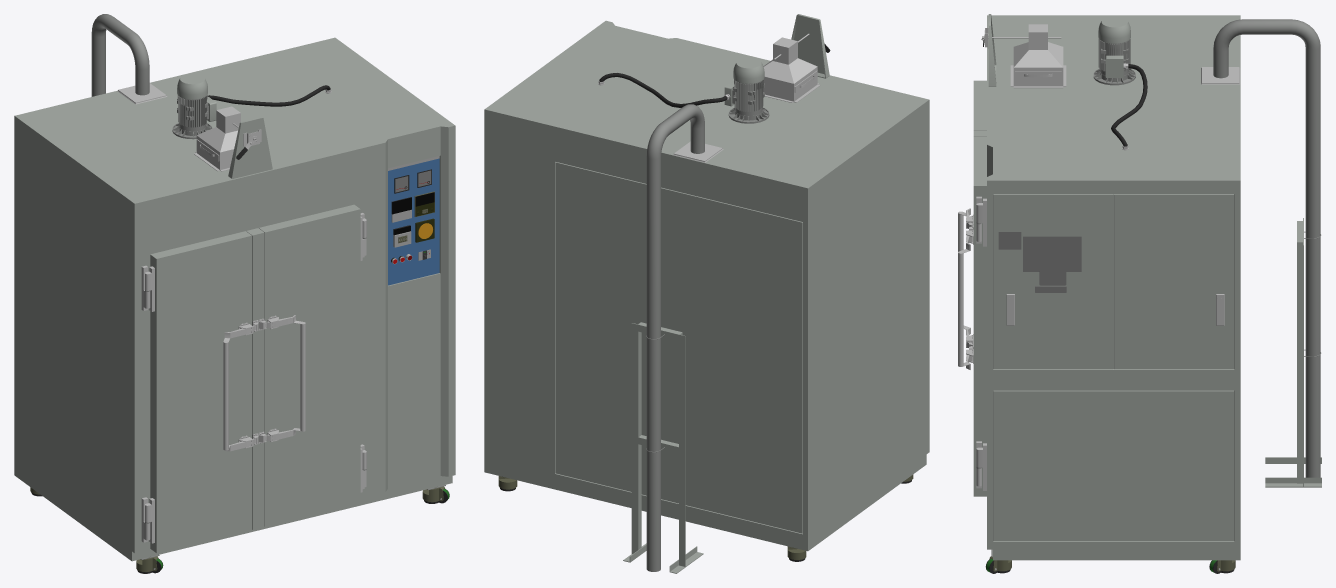
Rendered from ForcedConvectionOven_01.fbx.
The picture shows the model from 3 angles, left to right: view 1: azimuth 30°, elevation 25°; view 2: azimuth 150°, elevation 25°; view 3: azimuth 270°, elevation 25°; orthographic projection. The views are drawn at different scales.
Visible parts, largest first — view 1: FCO_01, FCO_Door_02, FCO_Door_01, FCO_DoorHandle_01, FCO_DoorHandle_02; view 2: FCO_01; view 3: FCO_01, FCO_Door_01, FCO_DoorHandle_01, FCO_Door_02.
Boxes of the visible parts, x1=… form: FCO_01: x1=14, y1=14, x2=455, y2=573; FCO_Door_02: x1=145, y1=231, x2=253, y2=553; FCO_Door_01: x1=259, y1=204, x2=366, y2=526; FCO_DoorHandle_01: x1=269, y1=315, x2=305, y2=440; FCO_DoorHandle_02: x1=223, y1=327, x2=251, y2=451; FCO_01: x1=484, y1=14, x2=929, y2=573; FCO_01: x1=969, y1=14, x2=1321, y2=573; FCO_Door_01: x1=966, y1=136, x2=986, y2=496; FCO_DoorHandle_01: x1=958, y1=235, x2=972, y2=369; FCO_Door_02: x1=966, y1=80, x2=986, y2=347.
Bounding box in the file's own units: 155 × 200 × 143.
